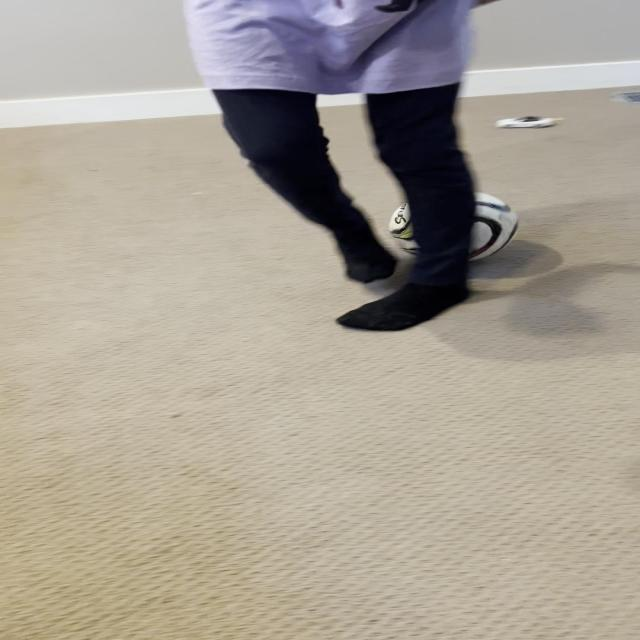Soccer Ball: (393, 188, 521, 263)
